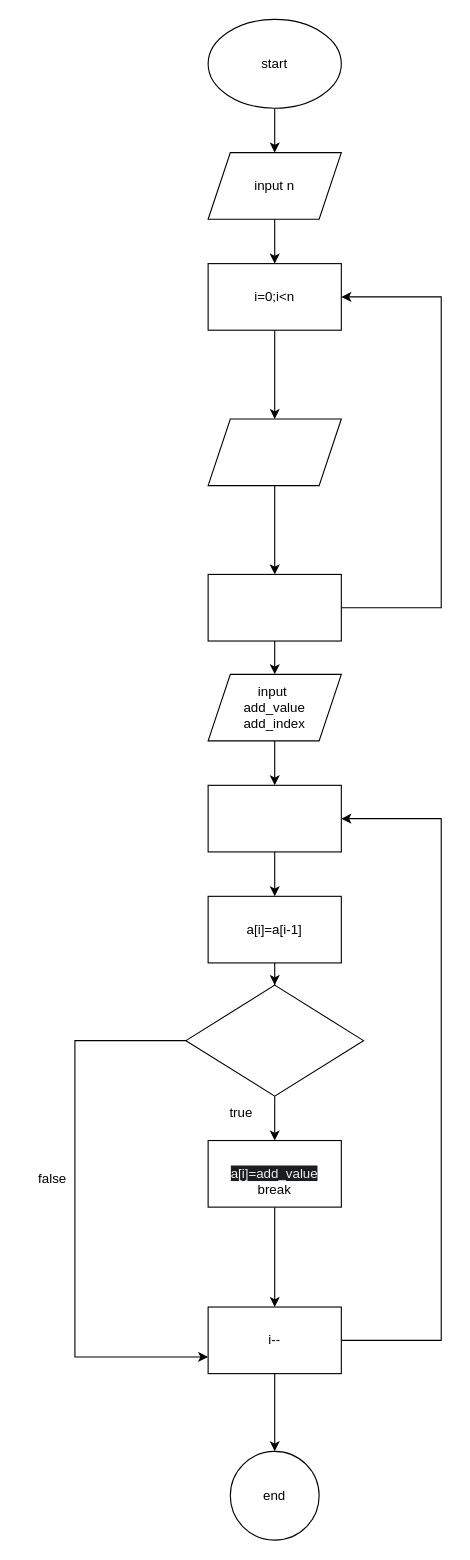
The diagram is 470 pixels wide and 1560 high, and some of its shapes have lost their labels. The centre of each missing label's shape, as x and y in pixels:
i++: the point at 274,607
i=n;i>0: the point at 274,818
if add_index = i: the point at 274,1040
input a[i]: the point at 274,452
